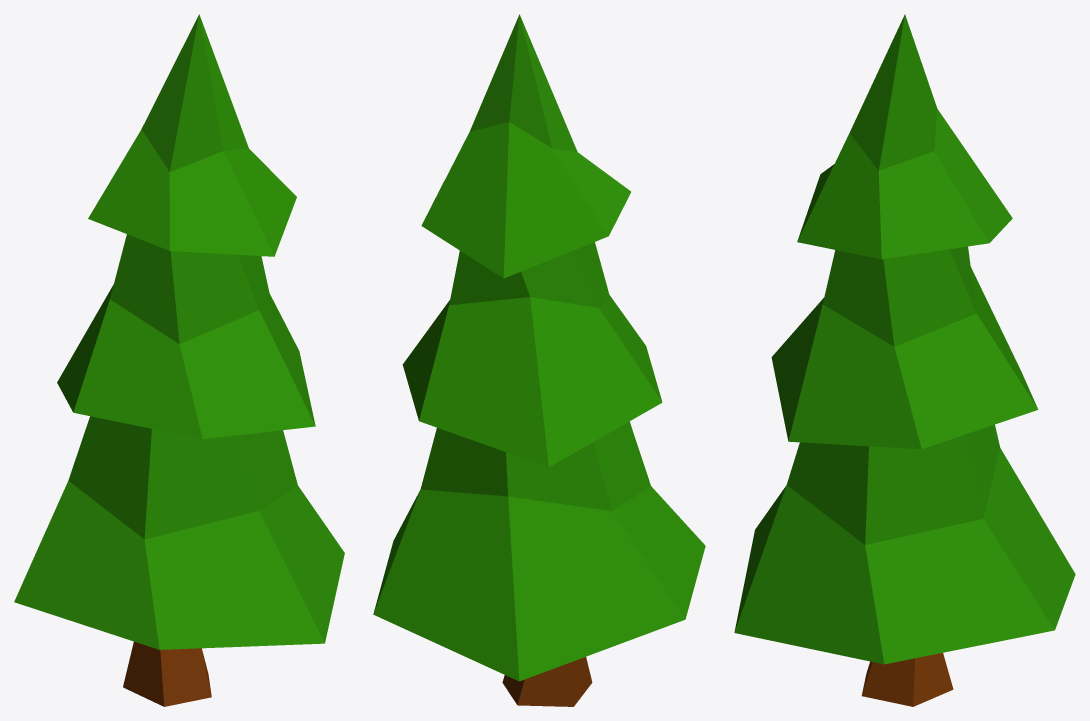
The model's file is SpruceTree0.fbx.
The picture shows the model from 3 angles, left to right: view 1: azimuth 30°, elevation 25°; view 2: azimuth 150°, elevation 25°; view 3: azimuth 270°, elevation 25°; orthographic projection. The views are drawn at different scales.
Parts seen in each view (by area): view 1: SpruceTree1; view 2: SpruceTree1; view 3: SpruceTree1.
Part boxes in pixels (x1=…): SpruceTree1: x1=14, y1=14, x2=344, y2=706; SpruceTree1: x1=373, y1=14, x2=705, y2=706; SpruceTree1: x1=734, y1=14, x2=1075, y2=706.
Size of the model in its own units: 590 by 1209 by 544.
